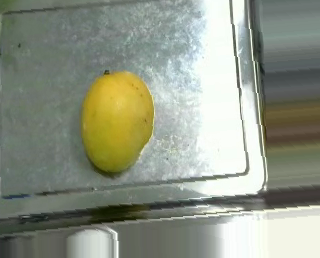Mango: (80, 69, 153, 175)
